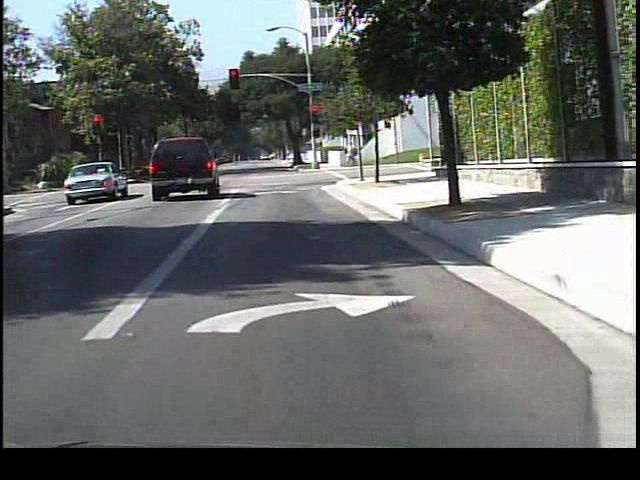person: (342, 142, 359, 173)
